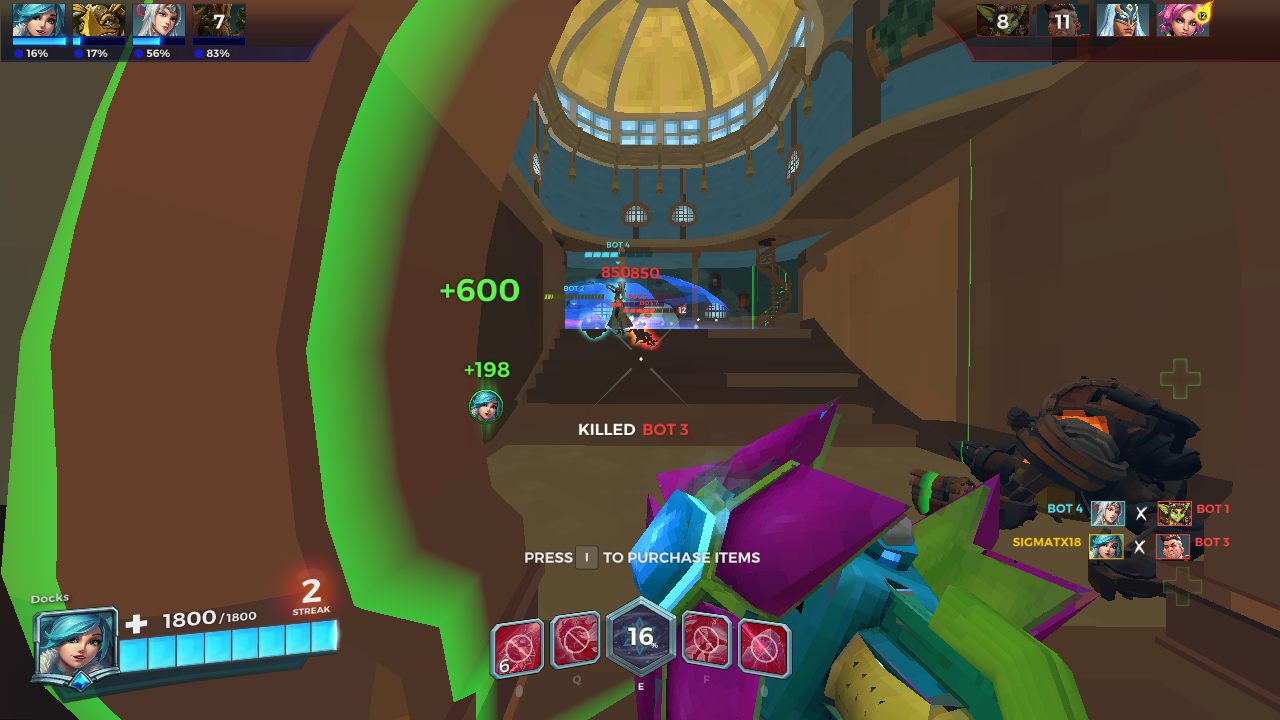model: (616, 313, 654, 344)
